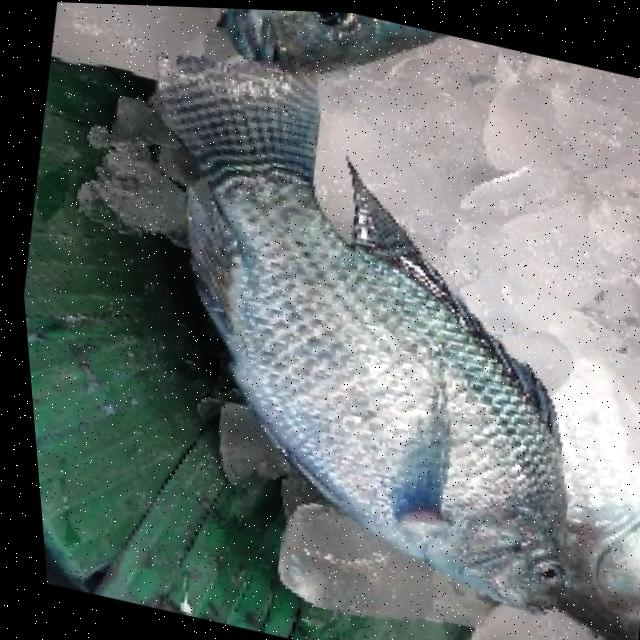Fresh: (39, 5, 640, 624)
